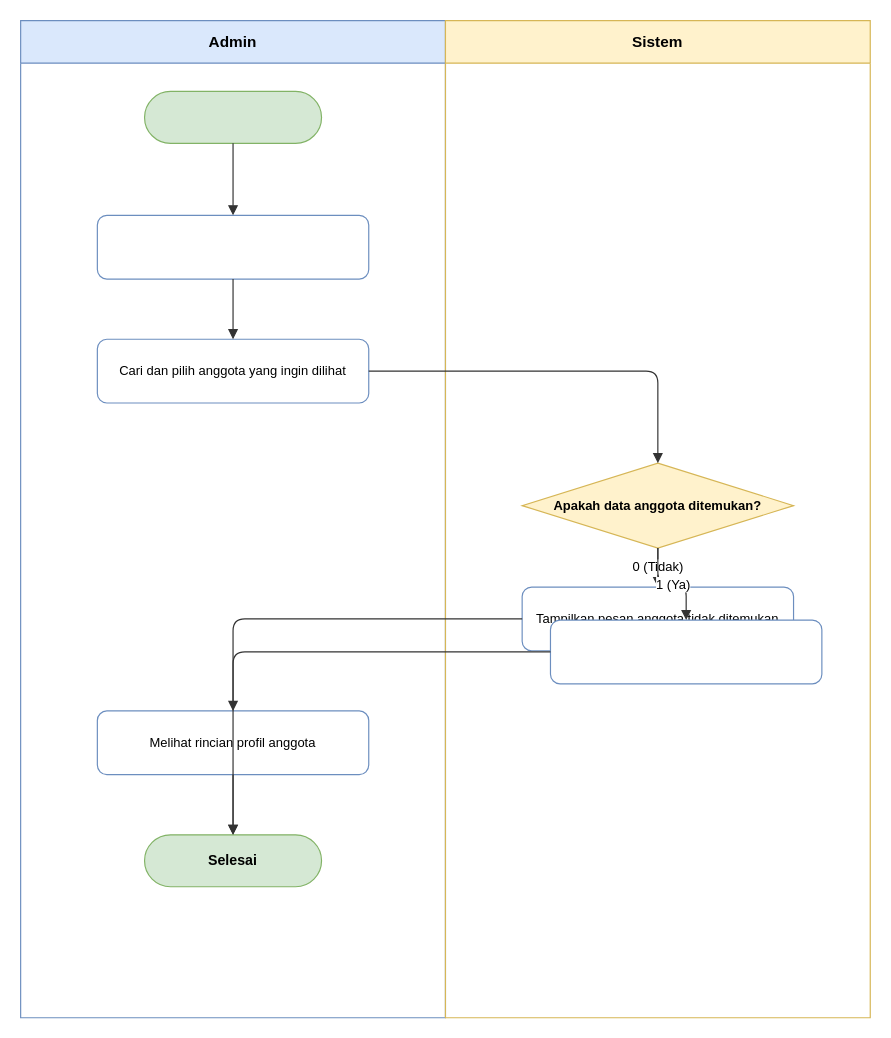
Some shapes in this 891 by 1038 pixel diagram are drawn without their labels. Each missing label, with the centre of its shape:
"Buka menu daftar anggota" goes at (x=232, y=246).
"Mulai" goes at (x=232, y=116).
"Tampilkan informasi lengkap anggota" goes at (x=685, y=651).
